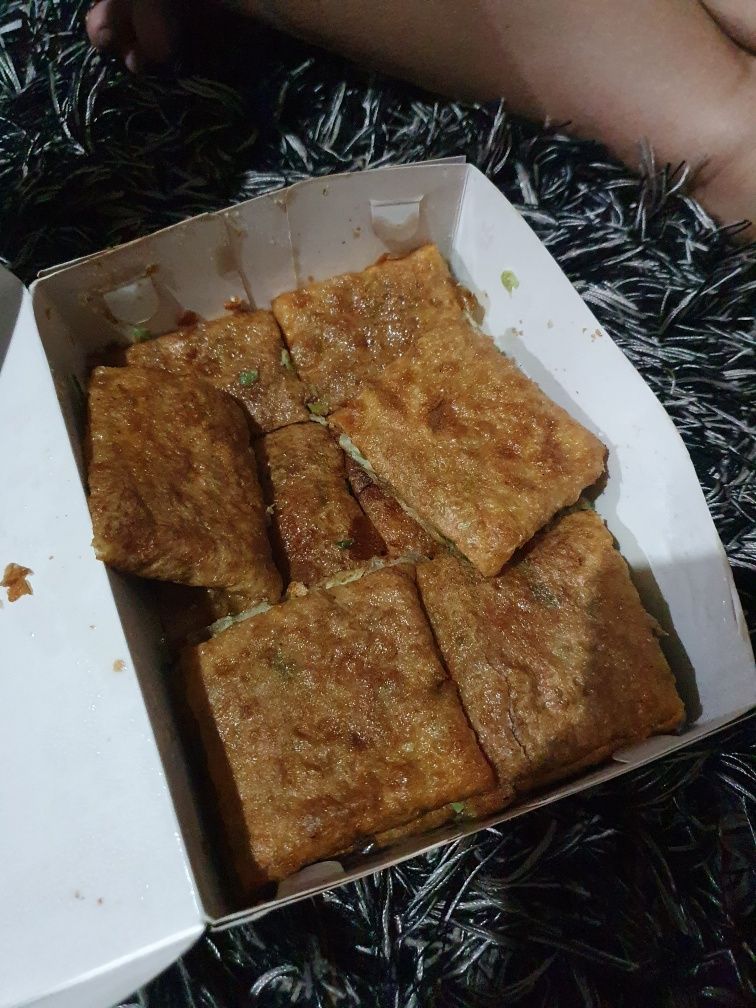martabak telor: (159, 595, 471, 800), (415, 531, 682, 769), (329, 332, 595, 543), (76, 356, 287, 588)
